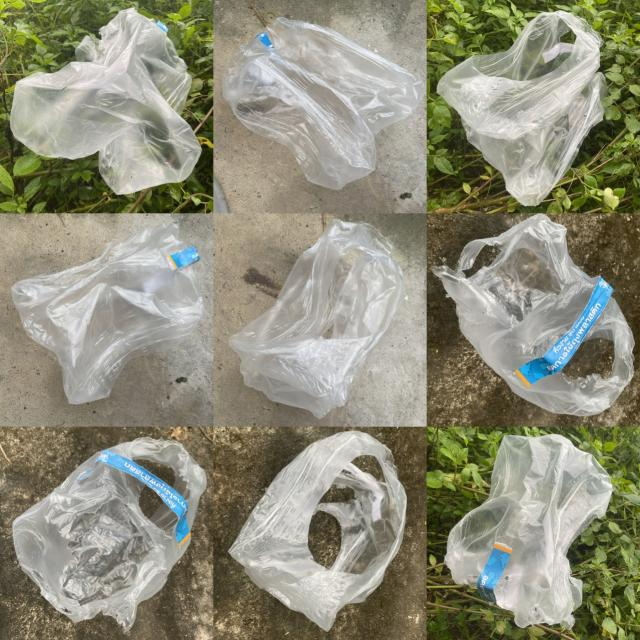Single-layer Plastic: (431, 214, 634, 416), (12, 438, 206, 631), (10, 8, 201, 194), (229, 431, 406, 631), (229, 220, 406, 418), (11, 224, 204, 404), (222, 18, 425, 189), (438, 11, 606, 206), (445, 435, 612, 628)
